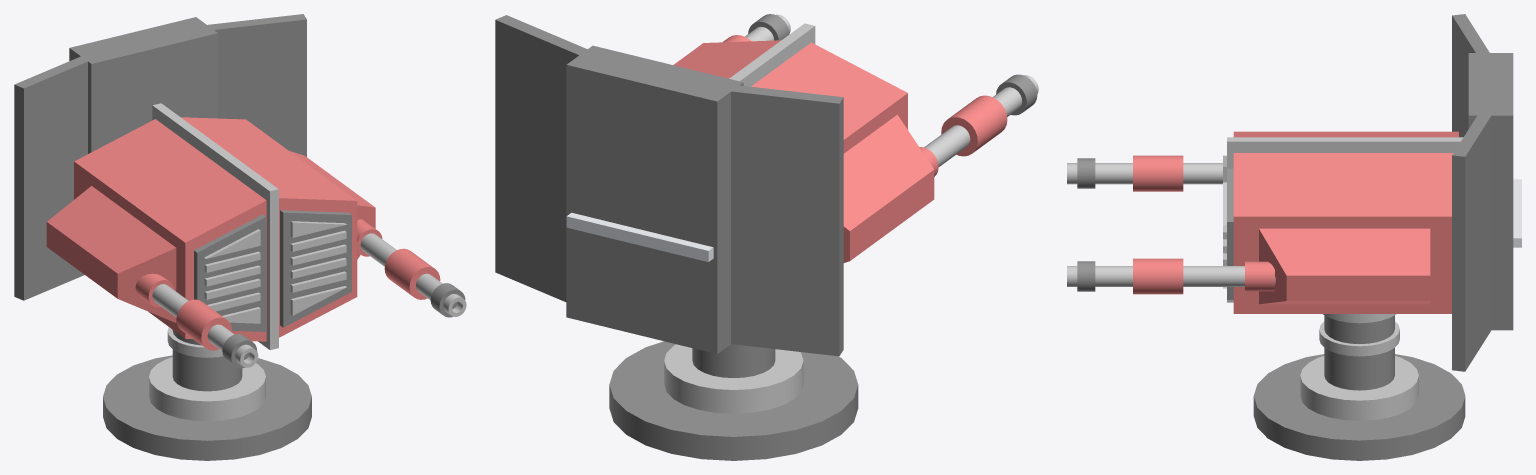
Rendered from turret_3.fbx.
The picture shows the model from 3 angles, left to right: view 1: azimuth 30°, elevation 25°; view 2: azimuth 150°, elevation 25°; view 3: azimuth 270°, elevation 25°; orthographic projection. The views are drawn at different scales.
Visible parts, largest first — view 1: turret_3; view 2: turret_3; view 3: turret_3.
Part boxes in pixels (left/top/right/bottom): turret_3: left=14, top=14, right=466, bottom=460; turret_3: left=495, top=14, right=1038, bottom=460; turret_3: left=1067, top=14, right=1521, bottom=460.
Size of the model in its own units: 95.81 by 104 by 129.
